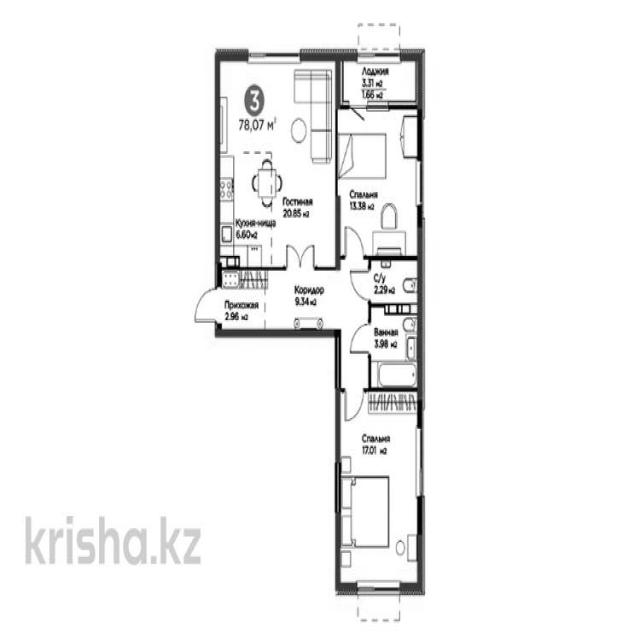balcony: (336, 52, 422, 109)
bathroom: (369, 307, 422, 390), (369, 258, 424, 307)
hallway: (218, 263, 371, 391)
living_room: (338, 389, 422, 592), (336, 107, 421, 260)
studio: (216, 54, 340, 270)
